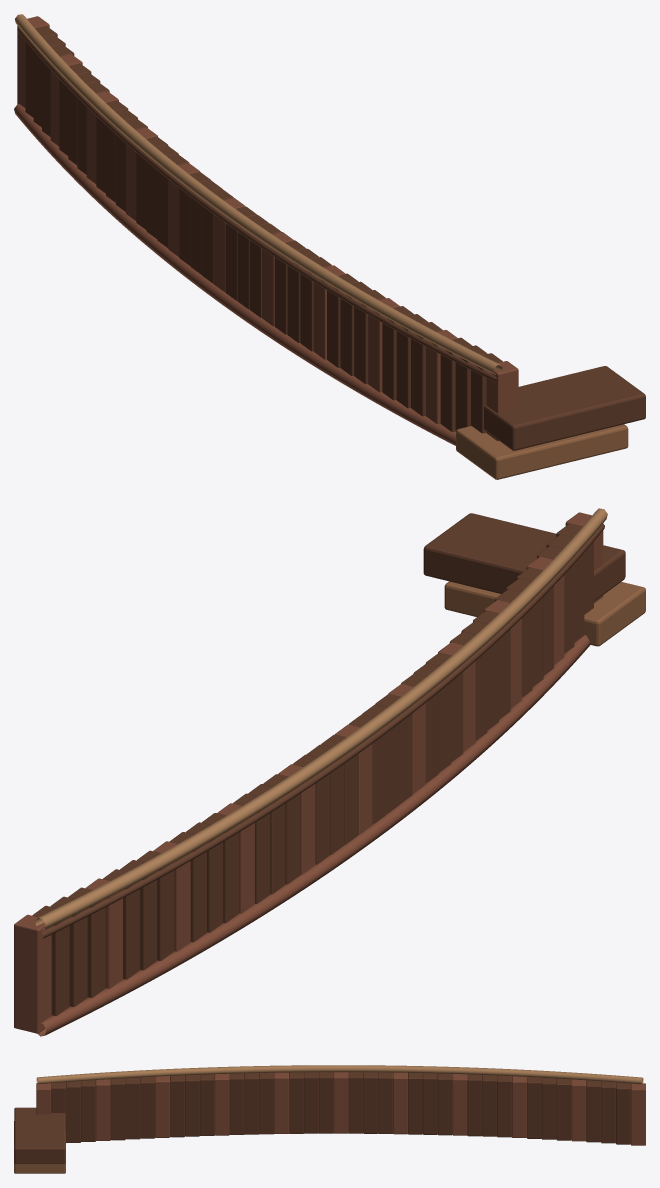
Rendered from SM_Menu_StageApron.fbx.
3 views of the same model, one above another, from view 1: azimuth 30°, elevation 25°; view 2: azimuth 150°, elevation 25°; view 3: azimuth 270°, elevation 25° (orthographic). The views are drawn at different scales.
Visible parts, largest first — view 1: SM_Menu_StageApron; view 2: SM_Menu_StageApron; view 3: SM_Menu_StageApron.
Boxes of the visible parts, bbox=[...] form: SM_Menu_StageApron: bbox=[14, 14, 645, 479]; SM_Menu_StageApron: bbox=[14, 508, 645, 1036]; SM_Menu_StageApron: bbox=[14, 1065, 645, 1173].
Size of the model in its own units: 239 by 1178 by 131.
